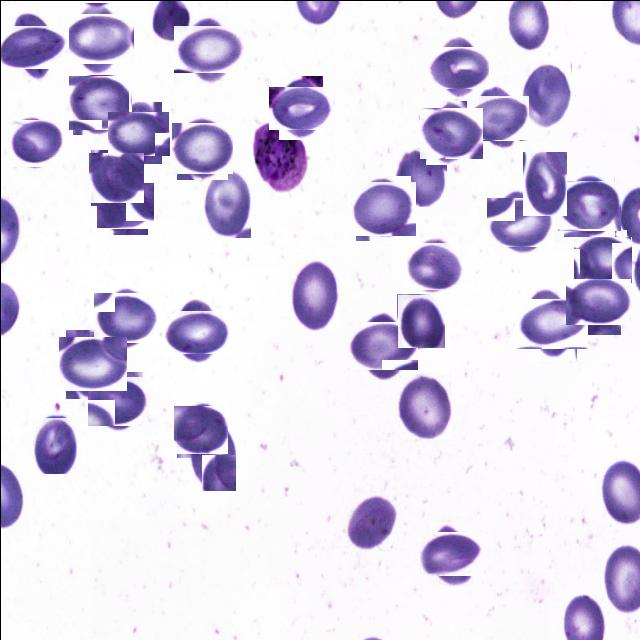red blood cell: (520, 292, 582, 354), (61, 332, 122, 394), (287, 258, 339, 330), (66, 8, 128, 68), (518, 61, 571, 129), (352, 316, 412, 376), (178, 18, 238, 78), (352, 178, 412, 238), (396, 373, 451, 438), (70, 73, 129, 132), (490, 192, 550, 250), (96, 288, 154, 346), (3, 17, 61, 75), (422, 104, 479, 162), (203, 167, 250, 237), (173, 120, 230, 177), (560, 176, 617, 233), (189, 420, 235, 490), (569, 274, 625, 329), (344, 492, 396, 551), (394, 148, 446, 206), (90, 373, 144, 428), (111, 106, 166, 160), (470, 90, 524, 144), (170, 304, 224, 358), (273, 80, 327, 134), (423, 526, 477, 580), (88, 150, 142, 203), (522, 151, 566, 215), (408, 239, 461, 291), (576, 232, 628, 284), (98, 179, 150, 231), (431, 41, 483, 93), (174, 404, 226, 456), (9, 117, 60, 169), (396, 293, 444, 347), (32, 416, 76, 473)
schizont: (250, 121, 308, 191)
